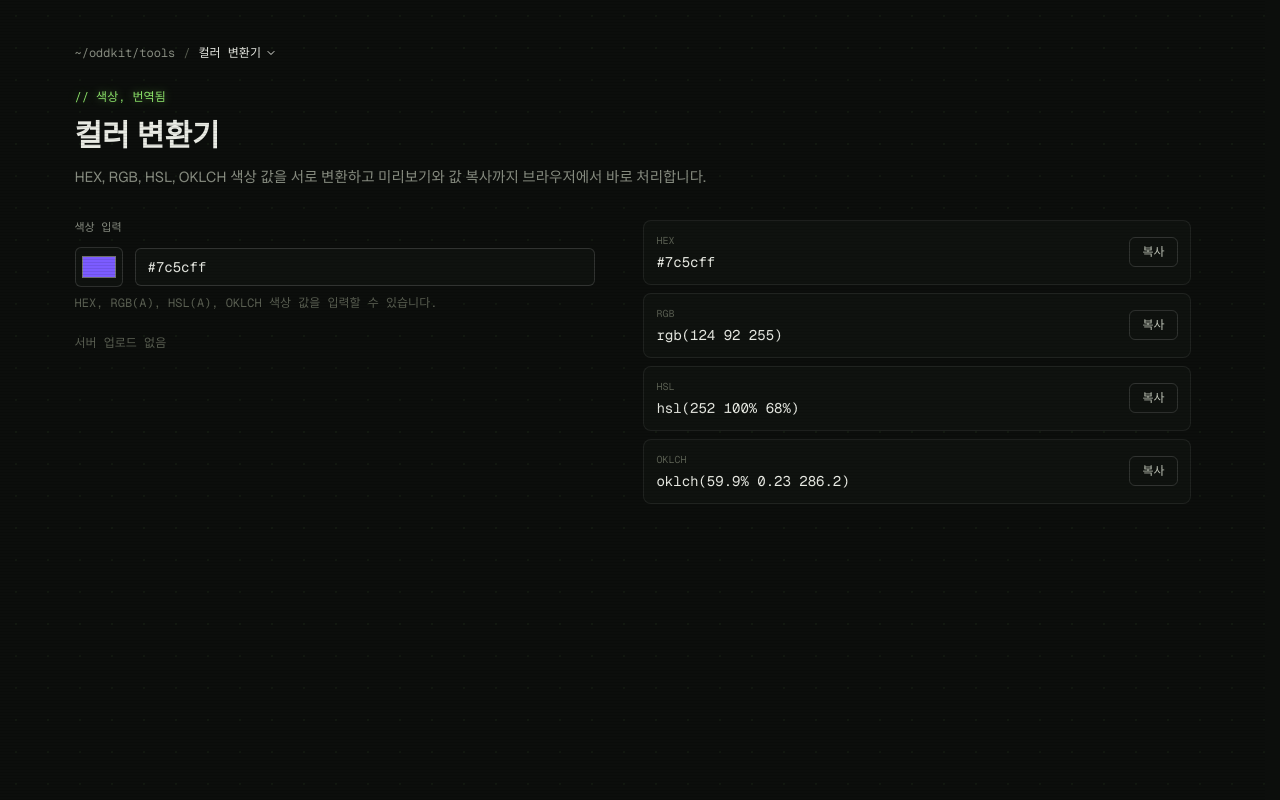
Test case: ColorConverterTool › 유효한 색상 입력: RGB 값을 입력하면 HEX/HSL/OKLCH가 함께 갱신된다
Expected: the heading "컬러 변환기" is shown, [74,116,220,155]
Replace the text in the field named "색상 입력" with "rgb(255, 0, 0)" at (365, 268), box [134,248,596,286]
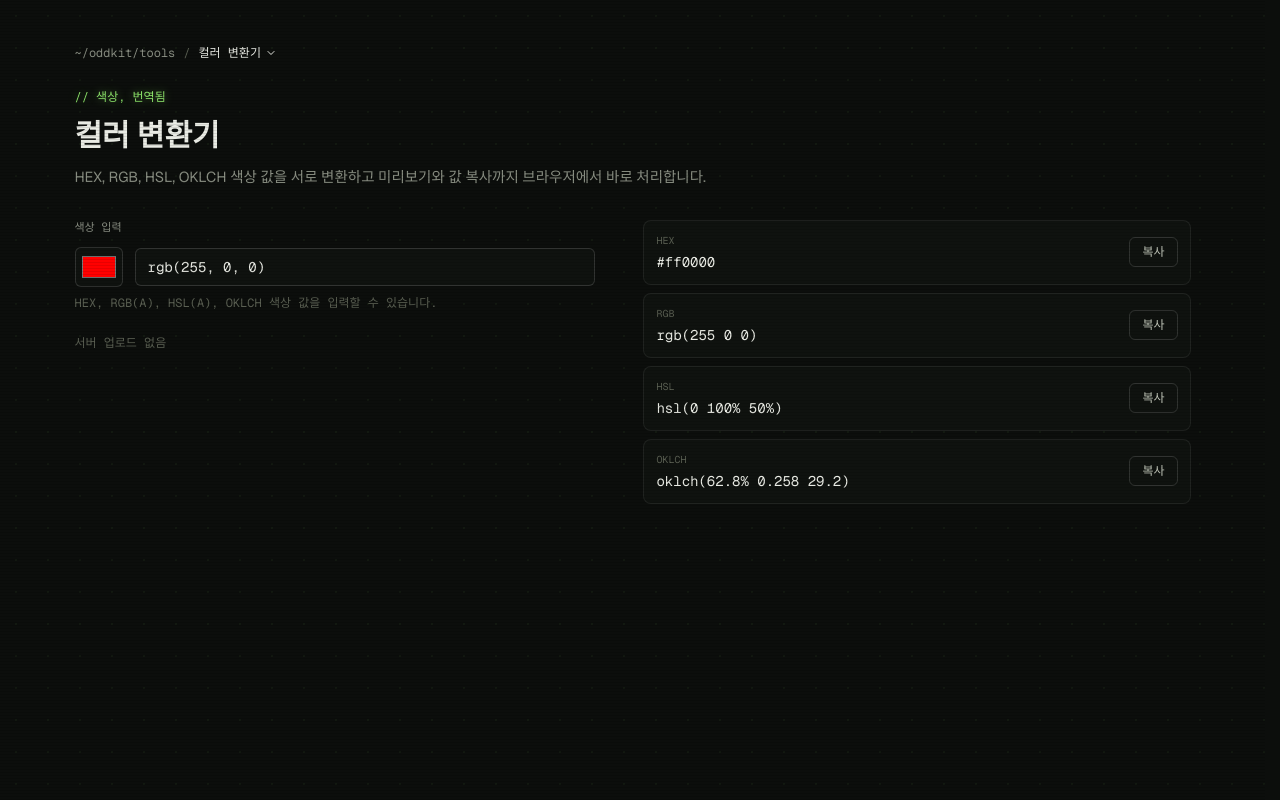
Now the text "#ff0000" is shown, box [656,252,715,272]
Now the text "hsl(0 100% 50%)" is shown, box [656,398,782,418]
